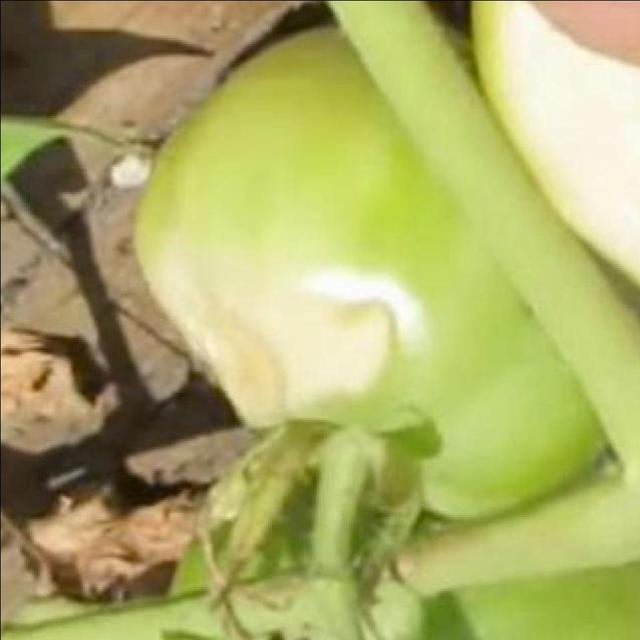Sunscald Fruit: (87, 161, 270, 292)
